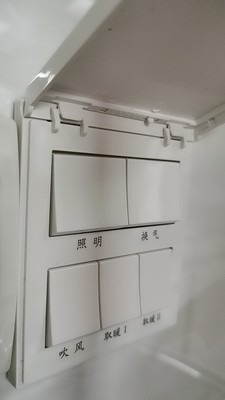switch: (45, 141, 133, 239), (42, 260, 105, 349), (124, 147, 184, 230), (95, 249, 146, 331), (137, 243, 185, 319)
